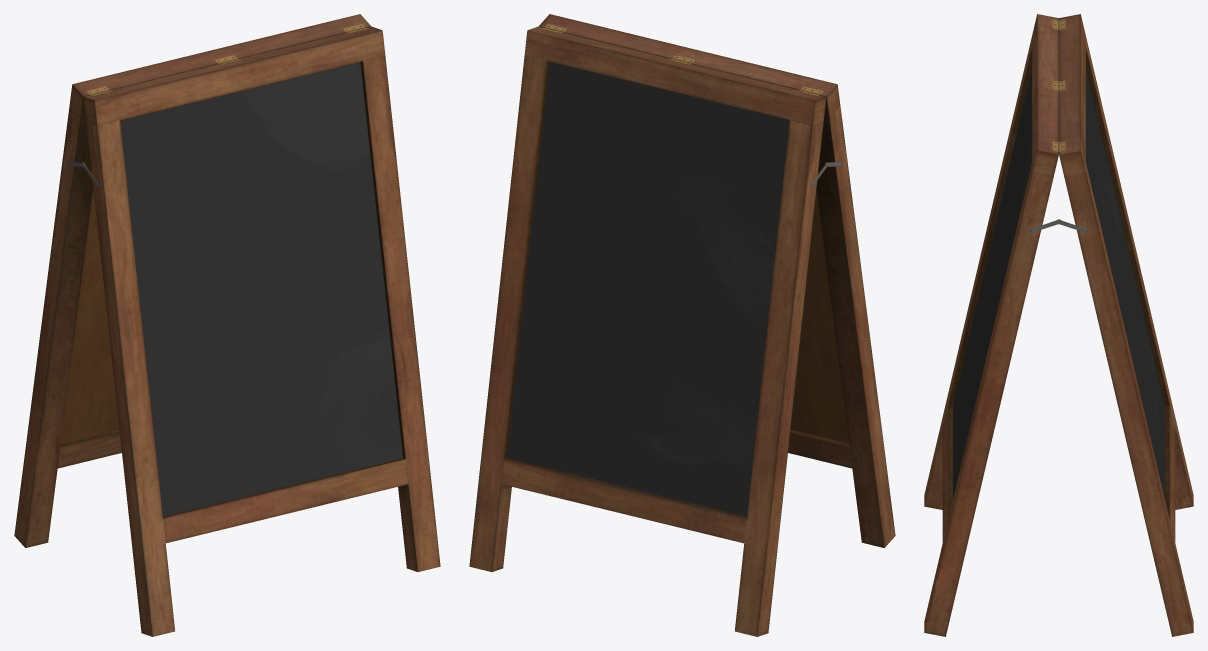
The model's file is tafel.glb.
The picture shows the model from 3 angles, left to right: view 1: azimuth 30°, elevation 25°; view 2: azimuth 150°, elevation 25°; view 3: azimuth 270°, elevation 25°; orthographic projection. The views are drawn at different scales.
Visible parts, largest first — view 1: standing_chalkboard_01; view 2: standing_chalkboard_01; view 3: standing_chalkboard_01.
Part boxes in pixels (box(x1,y1,x2,y2)): standing_chalkboard_01: box(14, 14, 440, 636); standing_chalkboard_01: box(469, 14, 895, 636); standing_chalkboard_01: box(924, 14, 1193, 636).
Bounding box in the file's own units: 0.9195 × 1.51 × 0.7587.
1 material, 1 textured.
